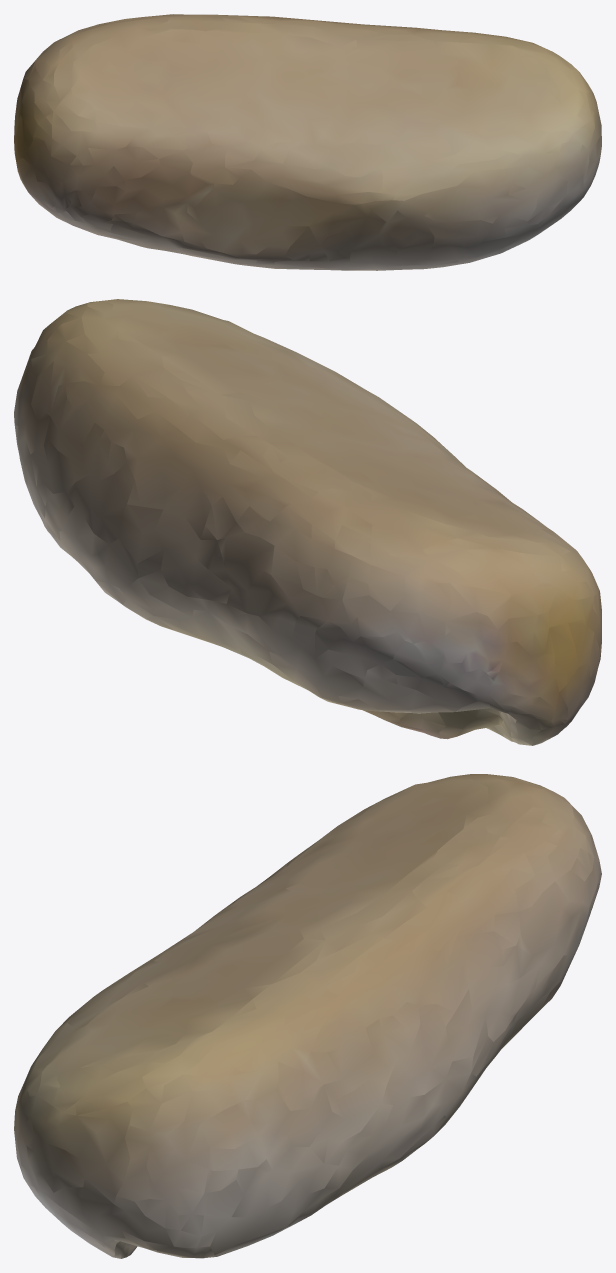
The model's file is 0004_mask_005_bread_roll.glb.
3 views of the same model, one above another, from view 1: azimuth 30°, elevation 25°; view 2: azimuth 150°, elevation 25°; view 3: azimuth 270°, elevation 25° (orthographic). The views are drawn at different scales.
Visible parts, largest first — view 1: mask_005_object; view 2: mask_005_object; view 3: mask_005_object.
Part boxes in pixels (x1=…): mask_005_object: x1=14, y1=14, x2=601, y2=270; mask_005_object: x1=14, y1=299, x2=601, y2=745; mask_005_object: x1=14, y1=774, x2=601, y2=1258.
Bounding box in the file's own units: 0.286 × 0.1156 × 0.2141.
